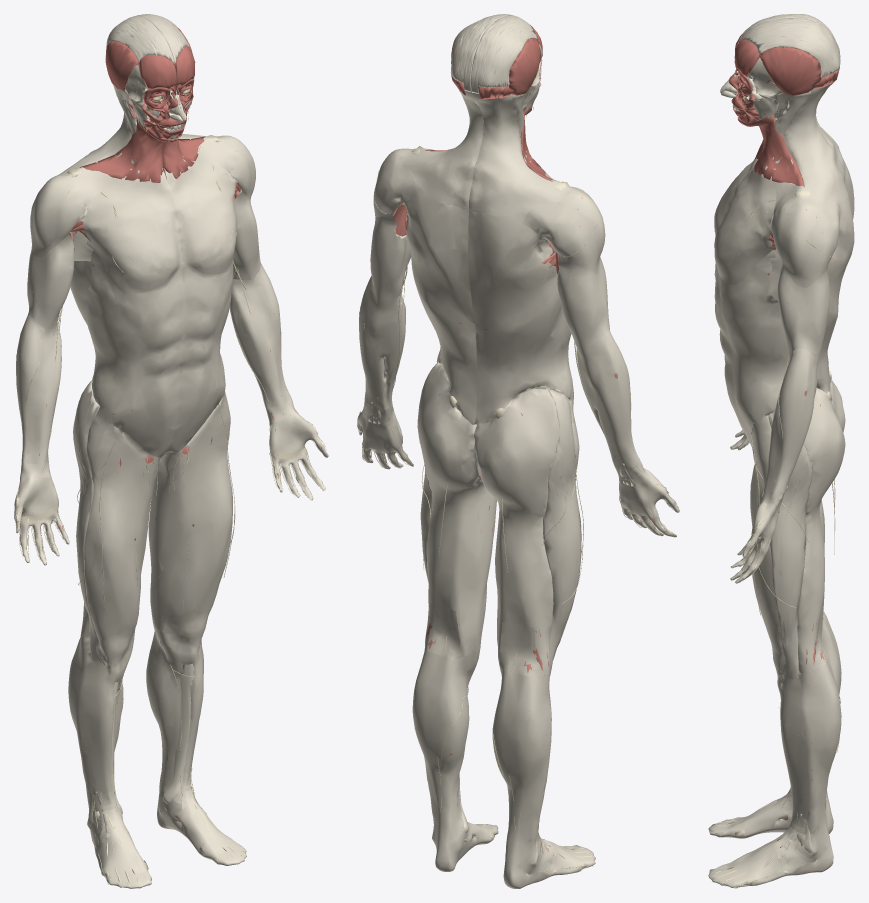
Rendered from body.glb.
3 views of the same model, side by side, from view 1: azimuth 30°, elevation 25°; view 2: azimuth 150°, elevation 25°; view 3: azimuth 270°, elevation 25° (orthographic). The views are drawn at different scales.
Parts seen in each view (by area): view 1: fs_lata, fs_abdominal, fs_pectoral, fs_crural, fs_armfascia, other, fs_palmar, fs_itband, fs_retinacula, fs_cervical, fs_galea, sk_leg (+2 smaller); view 2: fs_lata, fs_abdominal, fs_crural, fs_armfascia, fs_cervical, fs_itband, fs_pectoral, fs_galea, fs_palmar, other, fs_retinacula; view 3: fs_crural, fs_abdominal, fs_pectoral, fs_lata, fs_armfascia, other, fs_cervical, fs_itband, fs_galea, fs_palmar, fs_retinacula, sk_skull (+3 smaller).
Part boxes in pixels (<box>): fs_lata: <box>73,391,232,658</box>; fs_abdominal: <box>70,239,233,456</box>; fs_pectoral: <box>30,135,255,294</box>; fs_crural: <box>68,621,246,888</box>; fs_armfascia: <box>16,190,291,463</box>; other: <box>20,28,294,873</box>; fs_palmar: <box>14,409,328,564</box>; fs_itband: <box>73,380,229,667</box>; fs_retinacula: <box>20,398,295,853</box>; fs_cervical: <box>57,64,222,183</box>; fs_galea: <box>105,14,190,64</box>; sk_leg: <box>88,663,193,826</box>; fs_lata: <box>417,363,581,677</box>; fs_abdominal: <box>401,177,573,425</box>; fs_crural: <box>412,602,595,888</box>; fs_armfascia: <box>359,209,641,467</box>; fs_cervical: <box>399,44,570,216</box>; fs_itband: <box>418,362,581,675</box>; fs_pectoral: <box>373,148,605,273</box>; fs_galea: <box>451,14,538,93</box>; fs_palmar: <box>357,408,679,537</box>; other: <box>363,25,654,883</box>; fs_retinacula: <box>363,401,645,880</box>; fs_crural: <box>708,607,841,887</box>; fs_abdominal: <box>714,170,854,447</box>; fs_pectoral: <box>714,127,842,288</box>; fs_lata: <box>750,379,845,672</box>; fs_armfascia: <box>764,260,829,492</box>; other: <box>727,28,839,873</box>; fs_cervical: <box>749,58,848,204</box>; fs_itband: <box>768,411,812,679</box>; fs_galea: <box>738,14,840,77</box>; fs_palmar: <box>730,430,780,583</box>; fs_retinacula: <box>761,486,828,872</box>; sk_skull: <box>728,69,834,123</box>.
Bounding box in the file's own units: 0.6708 × 1.7 × 0.2687.
